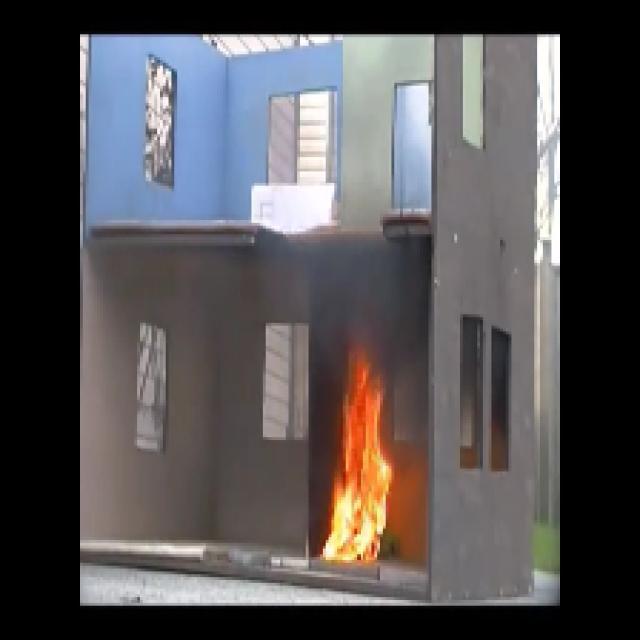Fire: (316, 380, 401, 572)
Smoke: (320, 244, 427, 346)
